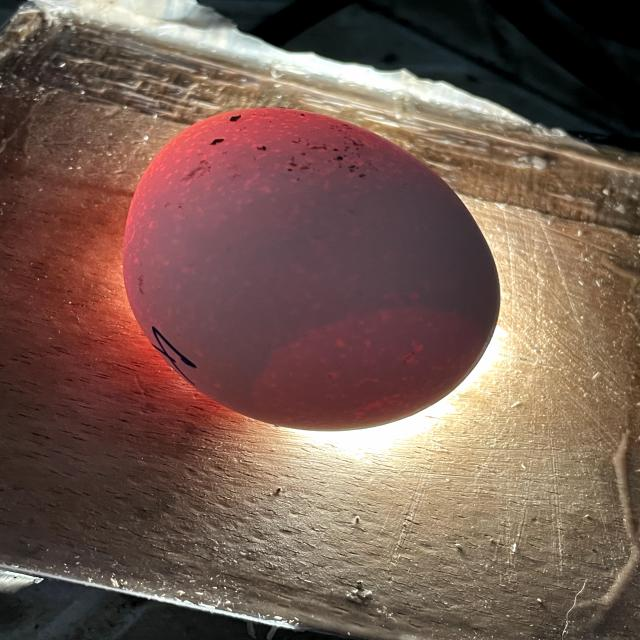fertile: (123, 108, 500, 430)
